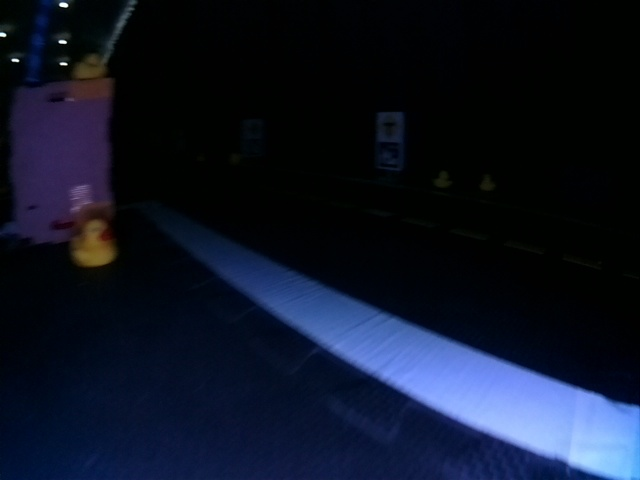Duckie: (70, 219, 119, 269), (76, 54, 105, 78), (434, 171, 450, 188), (480, 175, 496, 191)
Intersection sign: (378, 115, 401, 139)
QR code: (376, 143, 401, 169)
